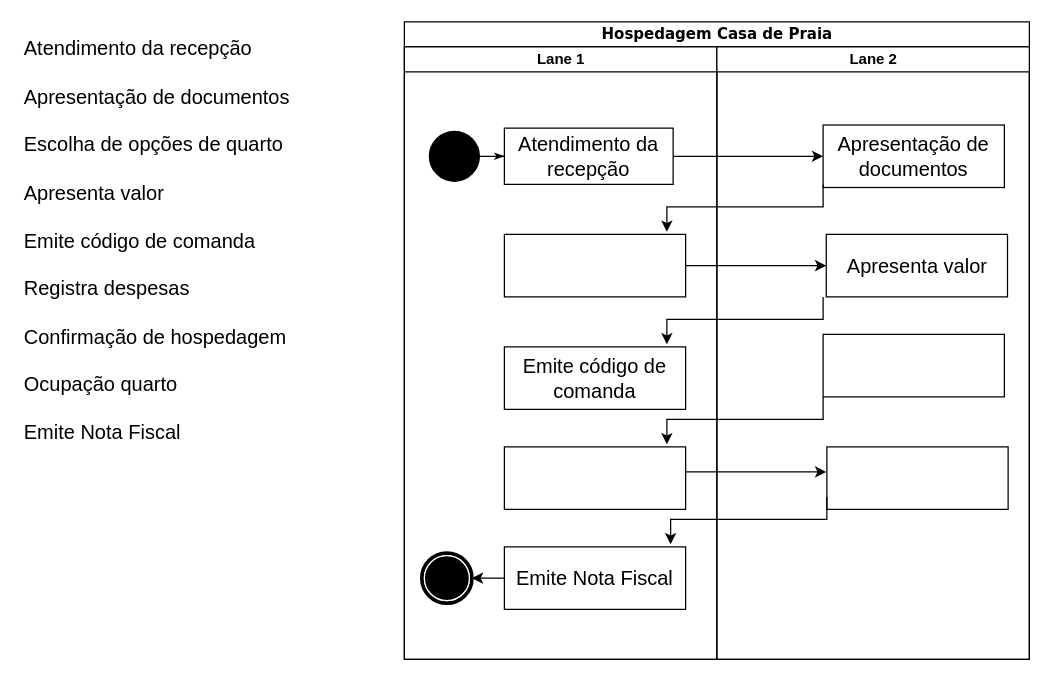
Some shapes in this 1051 by 681 pixel diagram are drawn without their labels. Here are the shapes that lost their labels. From the top down, the centre of each, then its label:
At (594,265): "Escolha de opções de quarto".
At (913,365): "Registra despesas".
At (594,477): "Confirmação de hospedagem".
At (917,477): "Ocupação quarto".
